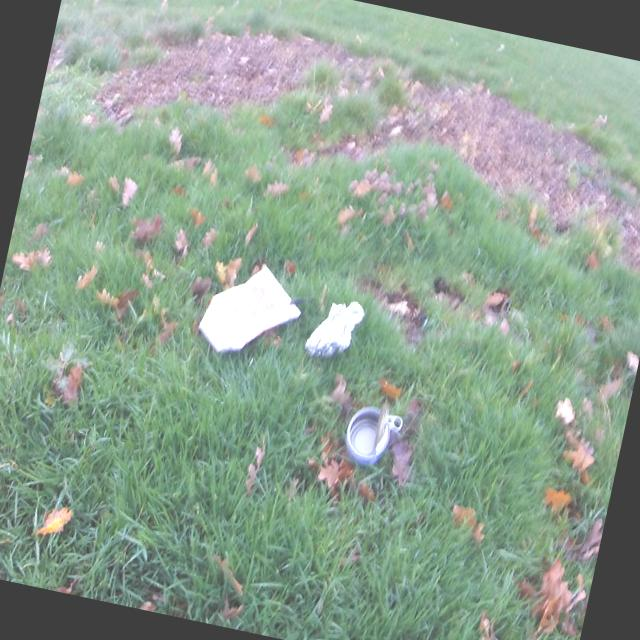Trash: (192, 254, 310, 365), (301, 287, 368, 365)
